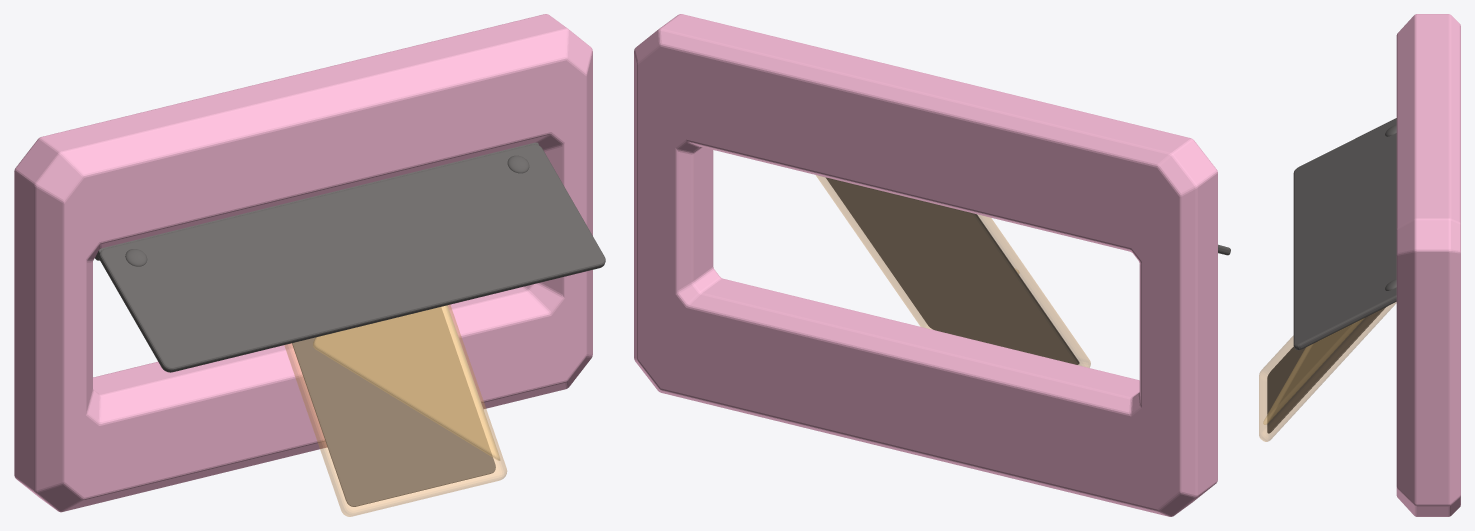
Rendered from eventbridge-target.glb.
3 views of the same model, side by side, from view 1: azimuth 30°, elevation 25°; view 2: azimuth 150°, elevation 25°; view 3: azimuth 270°, elevation 25° (orthographic). The views are drawn at different scales.
Visible parts, largest first — view 1: Faceted raspberry mail slot bezel, Hinged nickel mail flap, Satin gold letter inside amber glass, Amber envelope - short edge entering, Left pointing triangular closure, Hinge axle; view 2: Faceted raspberry mail slot bezel, Amber envelope - short edge entering, Satin gold letter inside amber glass; view 3: Faceted raspberry mail slot bezel, Hinged nickel mail flap, Satin gold letter inside amber glass, Amber envelope - short edge entering, Left pointing triangular closure.
Boxes of the visible parts, x1=… form: Faceted raspberry mail slot bezel: x1=14, y1=14, x2=592, y2=512; Hinged nickel mail flap: x1=98, y1=144, x2=605, y2=372; Satin gold letter inside amber glass: x1=292, y1=307, x2=495, y2=506; Amber envelope - short edge entering: x1=284, y1=305, x2=506, y2=516; Left pointing triangular closure: x1=313, y1=305, x2=500, y2=460; Hinge axle: x1=95, y1=142, x2=538, y2=260; Faceted raspberry mail slot bezel: x1=634, y1=14, x2=1217, y2=516; Amber envelope - short edge entering: x1=816, y1=175, x2=1090, y2=367; Satin gold letter inside amber glass: x1=825, y1=177, x2=1079, y2=364; Faceted raspberry mail slot bezel: x1=1396, y1=14, x2=1460, y2=516; Hinged nickel mail flap: x1=1293, y1=118, x2=1396, y2=350; Satin gold letter inside amber glass: x1=1267, y1=307, x2=1385, y2=433; Amber envelope - short edge entering: x1=1259, y1=302, x2=1396, y2=441; Left pointing triangular closure: x1=1263, y1=318, x2=1364, y2=424.
Size of the model in its own units: 4.44 by 2.74 by 1.68.
